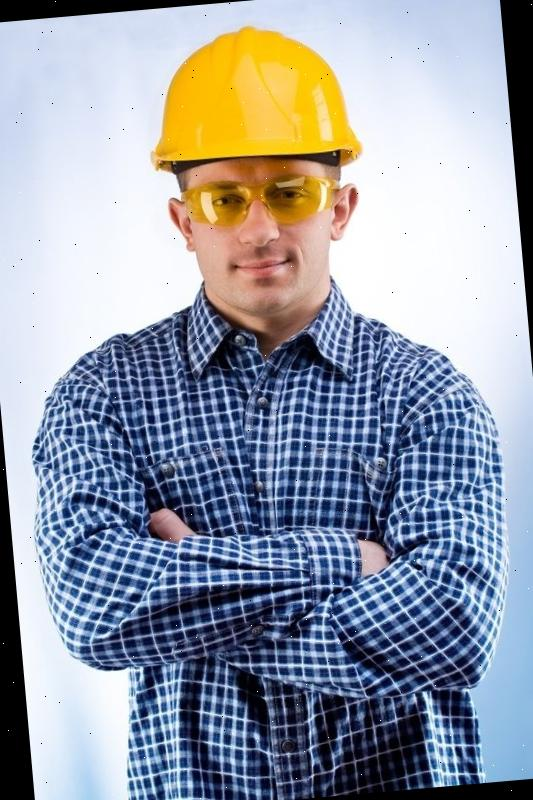helmet: (131, 10, 370, 195)
no_wear: (76, 315, 502, 800)
